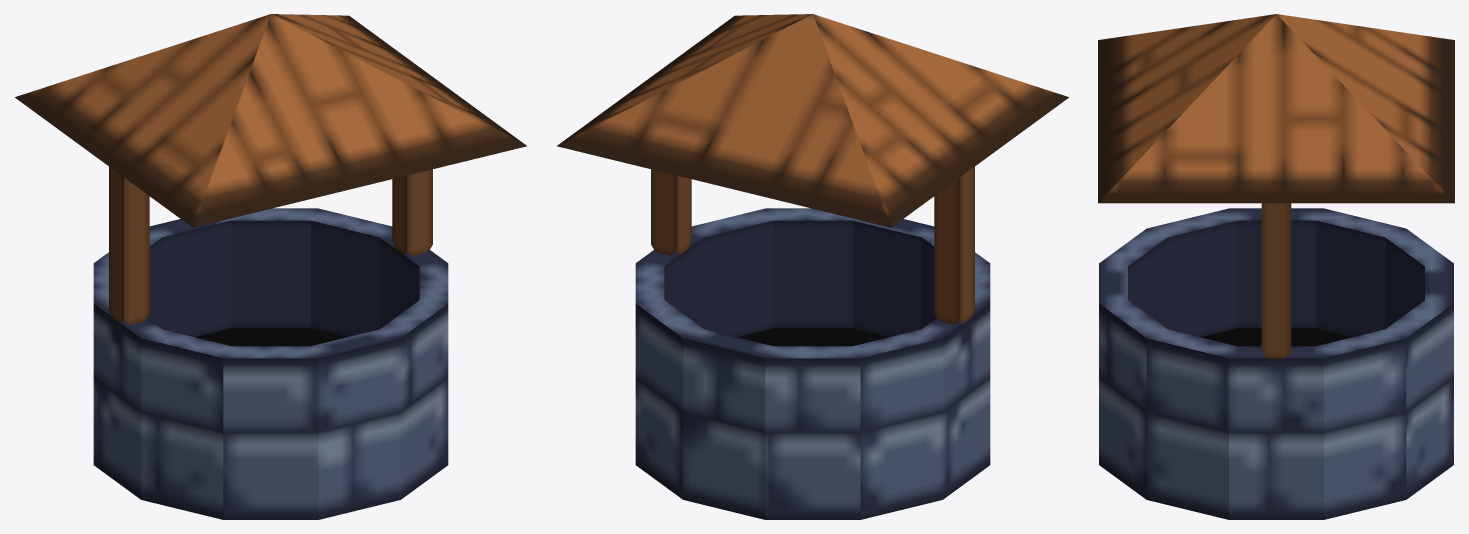
Rendered from well.fbx.
3 renders of one model, left to right at view 1: azimuth 30°, elevation 25°; view 2: azimuth 150°, elevation 25°; view 3: azimuth 270°, elevation 25°, orthographic.
Visible parts, largest first — view 1: well; view 2: well; view 3: well.
Part boxes in pixels (bbox=[...]): well: bbox=[15, 14, 526, 519]; well: bbox=[557, 14, 1068, 519]; well: bbox=[1098, 14, 1454, 519].
Bounding box in the file's own units: 81.25 × 100 × 75.
Materials: 1 (1 with a texture image).
